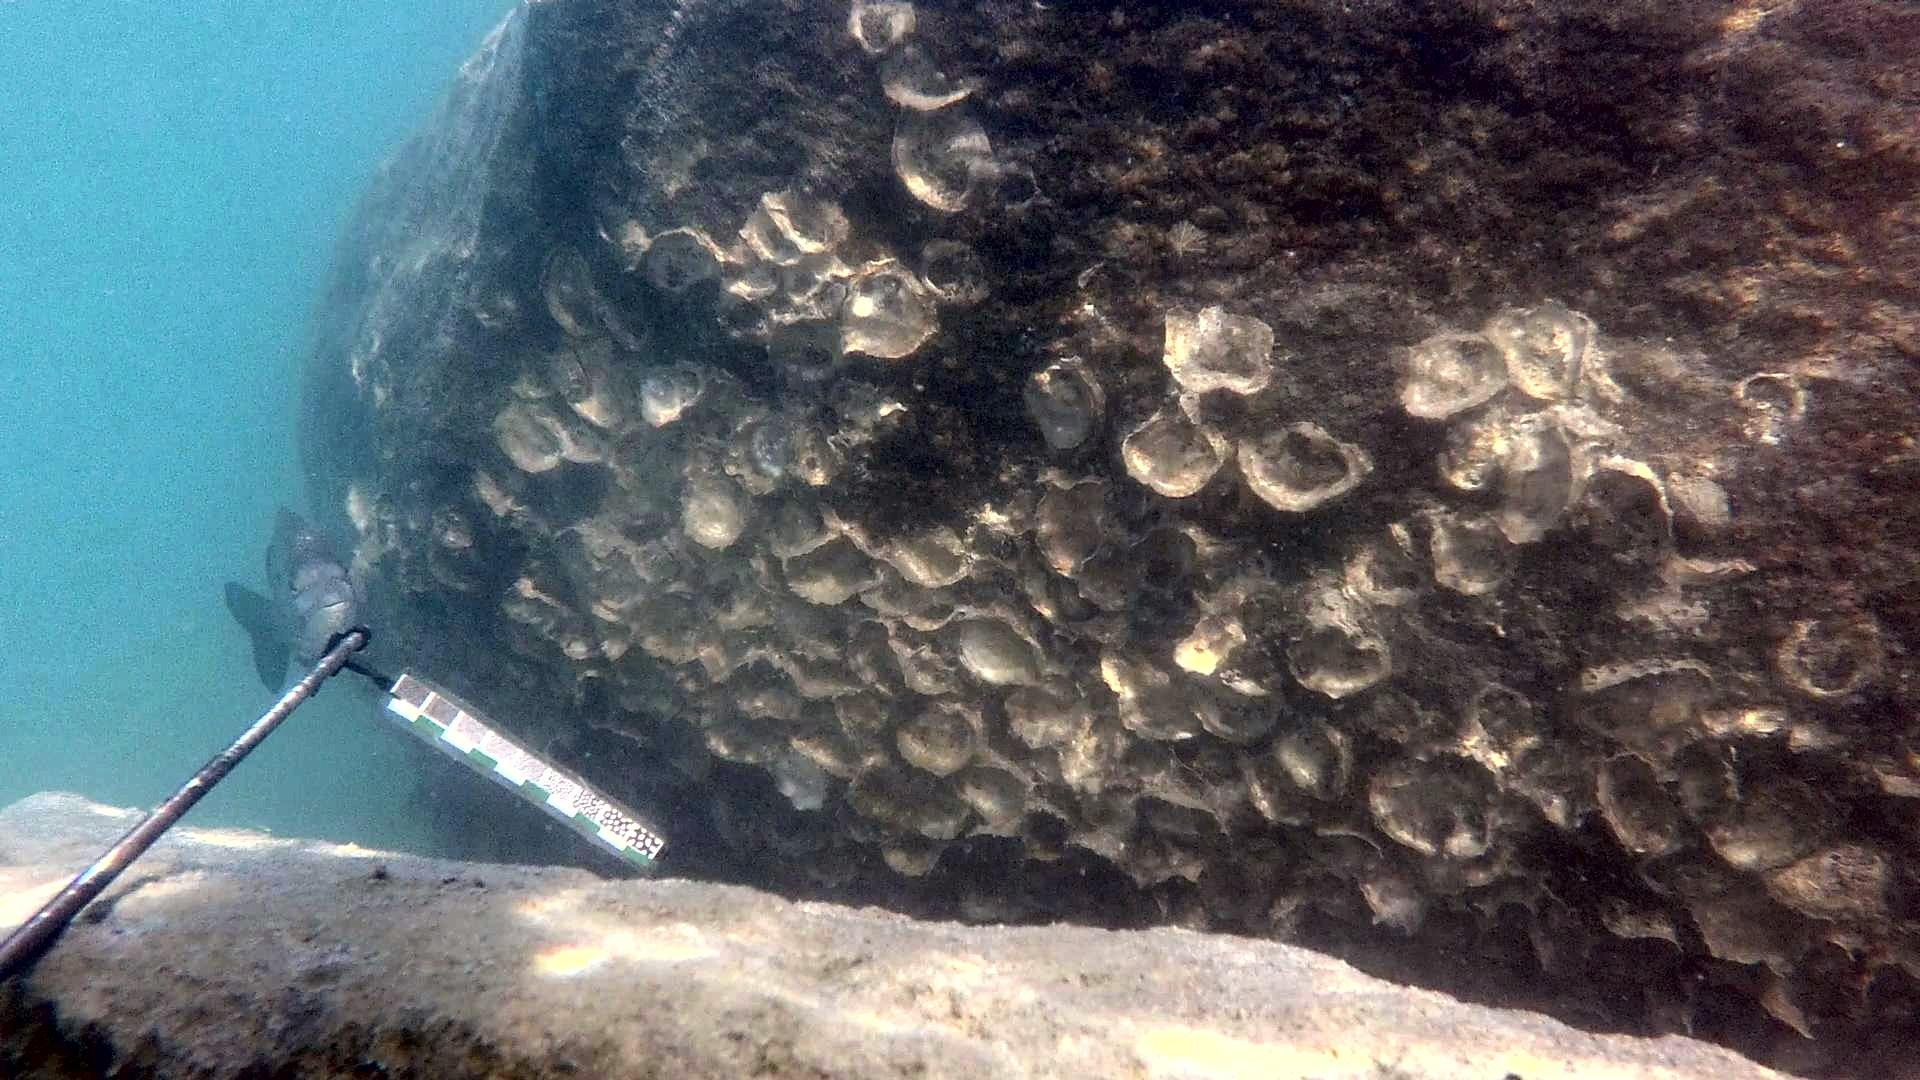acanthopagrus palmaris: (219, 498, 385, 704)
